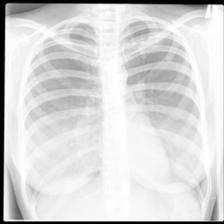tuberculosis: (13, 14, 208, 218)
